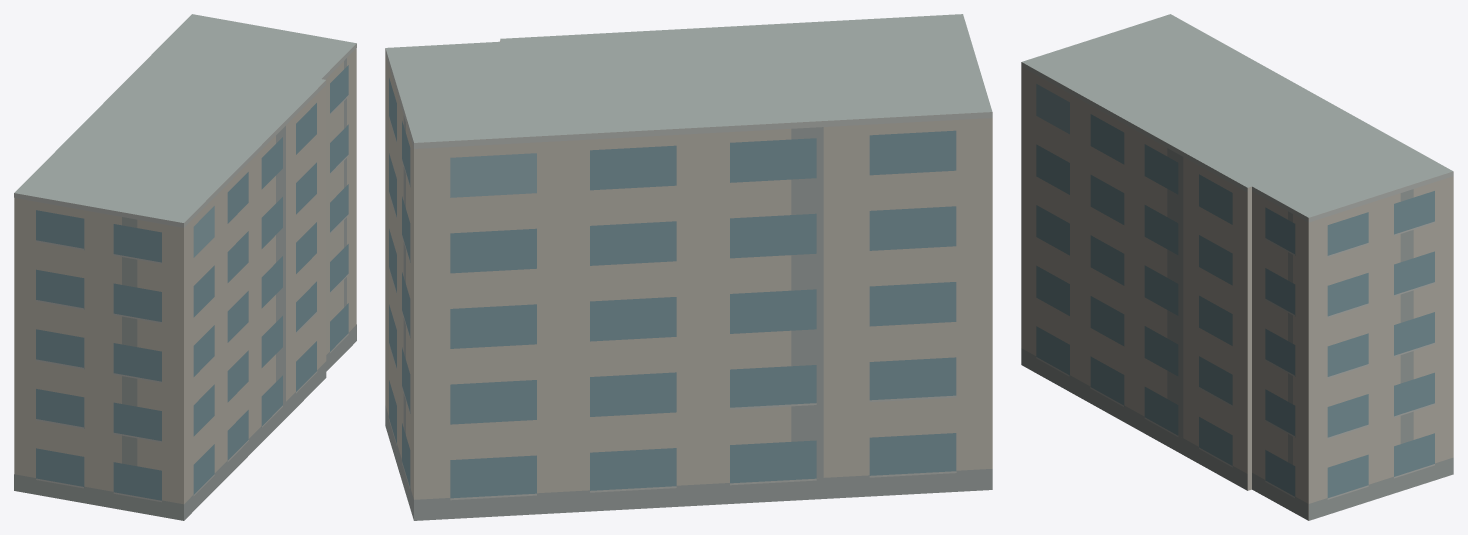
The model's file is residential-cb3ba1dd-9430-46e3-829f-01713e82f609.glb.
3 renders of one model, left to right at view 1: azimuth 30°, elevation 25°; view 2: azimuth 150°, elevation 25°; view 3: azimuth 270°, elevation 25°, orthographic. The views are drawn at different scales.
Visible parts, largest first — view 1: residential-cb3ba1dd-9430-46e3-829f-01713e82f609.tmp; view 2: residential-cb3ba1dd-9430-46e3-829f-01713e82f609.tmp; view 3: residential-cb3ba1dd-9430-46e3-829f-01713e82f609.tmp.
Part boxes in pixels (x1,y1,x2,y2): residential-cb3ba1dd-9430-46e3-829f-01713e82f609.tmp: (14, 14, 356, 520); residential-cb3ba1dd-9430-46e3-829f-01713e82f609.tmp: (385, 14, 992, 520); residential-cb3ba1dd-9430-46e3-829f-01713e82f609.tmp: (1021, 14, 1453, 520).
Size of the model in its own units: 22.01 by 15.25 by 19.71.
